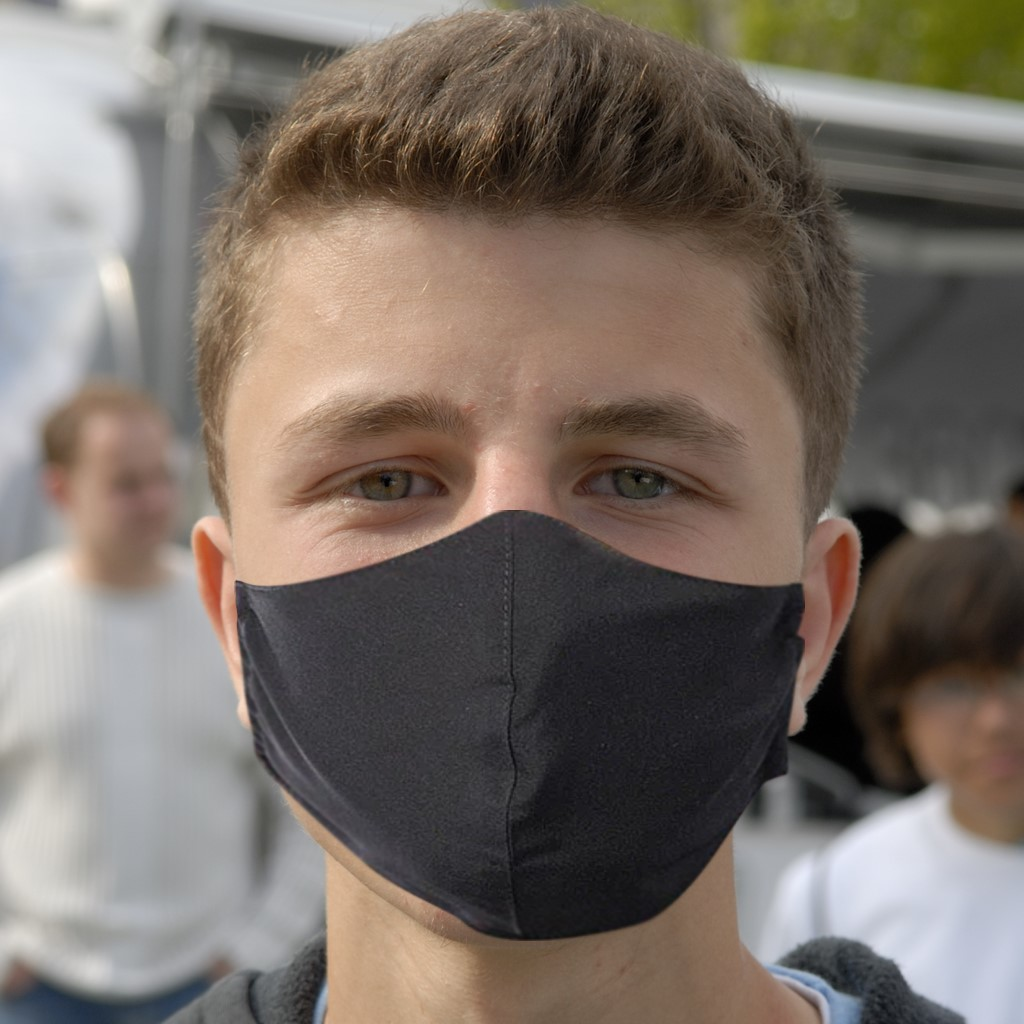con_mascara: (193, 175, 816, 938)
